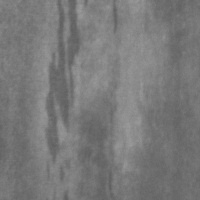inclusion: (40, 1, 93, 184), (80, 65, 121, 195), (107, 1, 122, 37)
